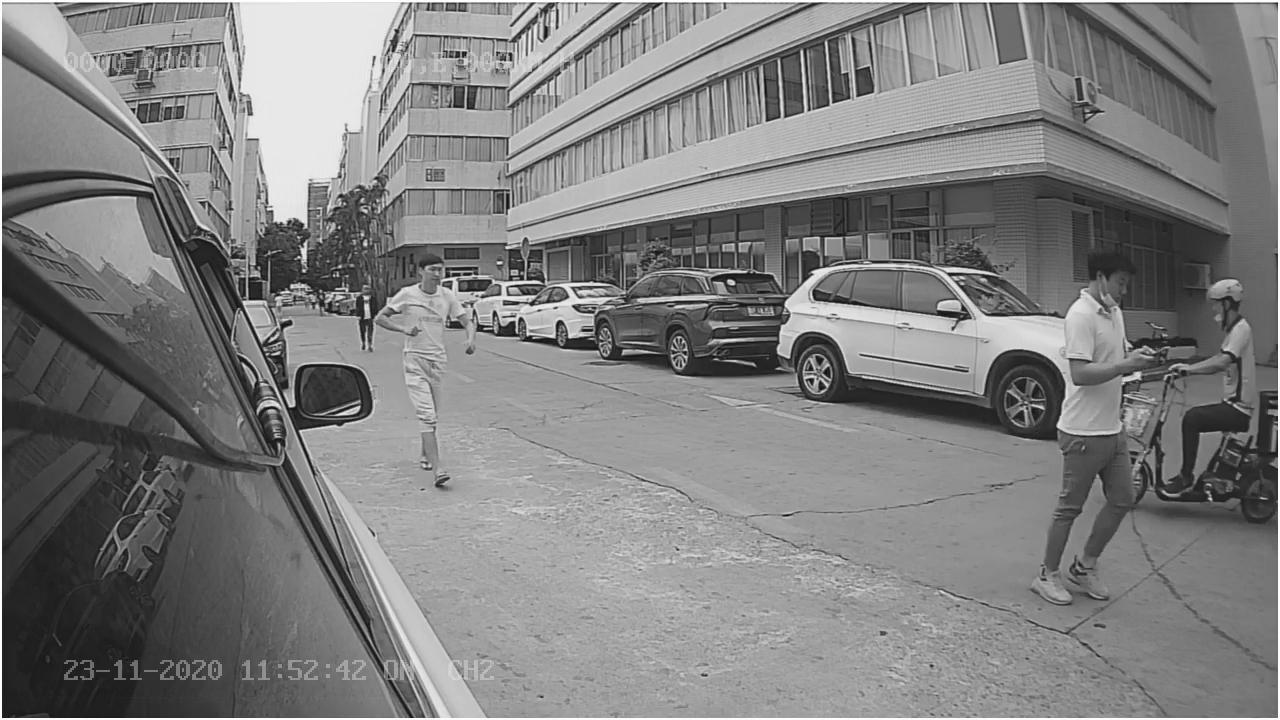person: (1030, 250, 1139, 609), (384, 251, 468, 479)
